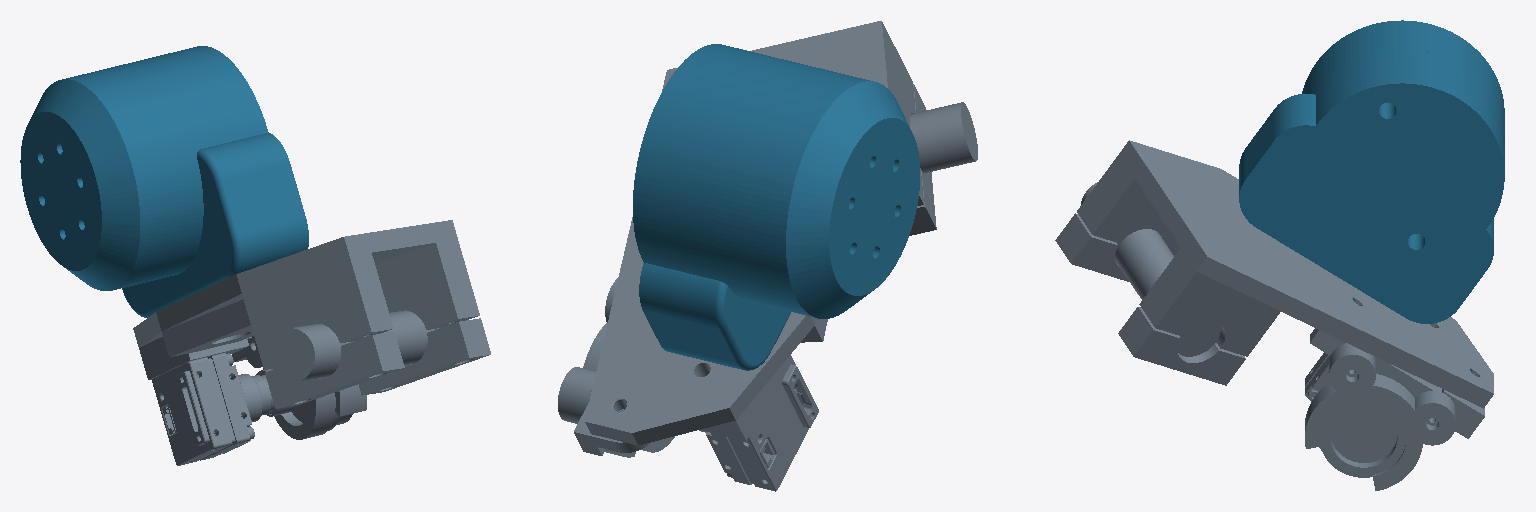
URDF robot description (yam):
<?xml version='1.0' encoding='utf-8'?>
<robot name="yam">
  <link name="base">
    <inertial>
      <mass value="0.873654" />
      <origin xyz="-3.83908653914762e-05 2.40068589826393e-05 0.0247677998591499" rpy="0 1.5708 3.1415963267949" />
      <inertia ixx="0.00157059" ixy="-9.4753e-07" ixz="2.04071e-07" iyy="0.000678307" iyz="2.44292e-07" izz="0.00169404" />
    </inertial>
    <visual>
      <origin xyz="0.0374957408313106 0.0464006377298596 0.187501137731438" rpy="0 1.5708 3.1415963267949" />
      <geometry>
        <mesh filename="../../vendor/i2rt/i2rt/robot_models/arm/yam/v1/assets/base.stl" scale="1 1 1" />
      </geometry>
      <material name="0.317647_0.121569_0.498039_0.000000_0.000000">
        <color rgba="0.317647 0.121569 0.498039 1" />
      </material>
    </visual>
  </link>
  <link name="gripper">
    </link>
  <link name="link1">
    <inertial>
      <mass value="0.101218" />
      <origin xyz="-0.0233636 -0.00172503 -0.00727828" rpy="0 -0 0" />
      <inertia ixx="0.000114689" ixy="-4.62759e-06" ixz="-1.3427e-05" iyy="4.76603e-05" iyz="-2.58724e-06" izz="0.000125996" />
    </inertial>
    <visual>
      <origin xyz="-0.119501 -0.0464 -0.0374968" rpy="0 -0 0" />
      <geometry>
        <mesh filename="../../vendor/i2rt/i2rt/robot_models/arm/yam/v1/assets/link1.stl" scale="1 1 1" />
      </geometry>
      <material name="0.725490_0.450980_0.317647_0.000000_0.000000">
        <color rgba="0.72549 0.45098 0.317647 1" />
      </material>
    </visual>
  </link>
  <link name="link2">
    <inertial>
      <mass value="1.46908" />
      <origin xyz="0.000134495 -0.0331253 0.129165" rpy="0 -0 0" />
      <inertia ixx="0.0146686" ixy="-1.1067e-08" ixz="-4.33007e-07" iyy="0.014599" iyz="3.12564e-06" izz="0.000800089" />
    </inertial>
    <visual>
      <origin xyz="-0.0740001 -0.08025 -0.0174977" rpy="0 -0 0" />
      <geometry>
        <mesh filename="../../vendor/i2rt/i2rt/robot_models/arm/yam/v1/assets/link2.stl" scale="1 1 1" />
      </geometry>
      <material name="0.000000_0.400000_0.600000_0.000000_0.000000">
        <color rgba="0 0.4 0.6 1" />
      </material>
    </visual>
  </link>
  <link name="link3">
    <inertial>
      <mass value="0.982553" />
      <origin xyz="-0.0556042 -0.0340514 -0.135083" rpy="0 -0 0" />
      <inertia ixx="0.00758945" ixy="4.36076e-06" ixz="-0.00064069" iyy="0.00763097" iyz="-1.09984e-05" izz="0.000937606" />
    </inertial>
    <visual>
      <origin xyz="-0.0740003 -0.0813 -0.281499" rpy="0 -0 0" />
      <geometry>
        <mesh filename="../../vendor/i2rt/i2rt/robot_models/arm/yam/v1/assets/link3.stl" scale="1 1 1" />
      </geometry>
      <material name="0.552941_0.580392_0.203922_0.000000_0.000000">
        <color rgba="0.552941 0.580392 0.203922 1" />
      </material>
    </visual>
  </link>
  <link name="link4">
    <inertial>
      <mass value="0.462165" />
      <origin xyz="-0.0550959 0.032726 -0.0575534" rpy="0 -0 0" />
      <inertia ixx="0.000473594" ixy="3.00819e-05" ixz="-0.000238801" iyy="0.000764022" iyz="2.9261e-05" izz="0.000604492" />
    </inertial>
    <visual>
      <origin xyz="-0.0140003 -0.0125 -0.0364989" rpy="0 -0 0" />
      <geometry>
        <mesh filename="../../vendor/i2rt/i2rt/robot_models/arm/yam/v1/assets/link4.stl" scale="1 1 1" />
      </geometry>
      <material name="0.545098_0.525490_0.419608_0.000000_0.000000">
        <color rgba="0.545098 0.52549 0.419608 1" />
      </material>
    </visual>
  </link>
  <link name="link5">
    <inertial>
      <mass value="0.403307" />
      <origin xyz="0.0375847 -3.55003e-05 -0.000825911" rpy="0 -0 0" />
      <inertia ixx="0.000184284" ixy="2.10549e-07" ixz="1.29173e-05" iyy="0.000219791" iyz="-3.49657e-07" izz="0.000181053" />
    </inertial>
    <visual>
      <origin xyz="0.0265 -0.0463995 0.0375" rpy="0 -0 0" />
      <geometry>
        <mesh filename="../../vendor/i2rt/i2rt/robot_models/arm/yam/v1/assets/link5.stl" scale="1 1 1" />
      </geometry>
      <material name="0.827451_0.623529_0.784314_0.000000_0.000000">
        <color rgba="0.827451 0.623529 0.784314 1" />
      </material>
    </visual>
  </link>
  <joint name="joint1" type="revolute">
    <origin xyz="-2.49777947129965e-07 -9.17402363407408e-13 0.0679999999995413" rpy="0 1.5708 3.1415963267949" />
    <axis xyz="-1 0 0" />
    <parent link="base" />
    <child link="link1" />
    <limit effort="1" velocity="1" lower="-2.61799" upper="3.14159" />
  </joint>
  <joint name="joint2" type="revolute">
    <origin xyz="-0.0455 -0.0339 -0.02" rpy="-1.7953e-16 5.55112e-17 -3.14159" />
    <axis xyz="3.58252e-15 1 -3.2007e-16" />
    <parent link="link1" />
    <child link="link2" />
    <limit effort="1" velocity="1" lower="-8.88178e-16" upper="3.66519" />
  </joint>
  <joint name="joint3" type="revolute">
    <origin xyz="4.08431e-07 -0.0688 0.264" rpy="-2.99502e-14 -1.6015e-14 -3.14159" />
    <axis xyz="4.54273e-15 1 1.04275e-14" />
    <parent link="link2" />
    <child link="link3" />
    <limit effort="1" velocity="1" lower="0" upper="3.14159" />
  </joint>
  <joint name="joint4" type="revolute">
    <origin xyz="-0.0600003 -0.0688 -0.244999" rpy="2.95536e-14 8.52374e-14 -2.10585e-14" />
    <axis xyz="0 1 0" />
    <parent link="link3" />
    <child link="link4" />
    <limit effort="1" velocity="1" lower="-1.69297" upper="1.5708" />
  </joint>
  <joint name="joint5" type="revolute">
    <origin xyz="-0.0405003 0.0338995 -0.0739989" rpy="2.73264e-14 -4.32956e-16 -8.32667e-17" />
    <axis xyz="1 0 0" />
    <parent link="link4" />
    <child link="link5" />
    <limit effort="1" velocity="1" lower="-1.5708" upper="1.5708" />
  </joint>
  <joint name="joint6" type="revolute">
    <origin xyz="0.0404996 2.39858e-07 -0.0356" rpy="8.83309e-16 -5.88588e-16 7.69861e-14" />
    <axis xyz="1.46014e-15 2.40808e-14 -1" />
    <parent link="link5" />
    <child link="gripper" />
    <limit effort="1" velocity="1" lower="-5.3726054547144" upper="-2.0871488750331" />
  </joint>
  <link name="mount_0">
    <visual>
      <geometry>
        <mesh filename="meshes/00_receiver_receiver_body.stl" scale="0.001 0.001 0.001" />
      </geometry>
      <material name="mount_material">
        <color rgba="0.21 0.49 0.62 1" />
      </material>
    </visual>
  </link>
  <joint name="mount_0_fixed" type="fixed">
    <parent link="gripper" />
    <child link="mount_0" />
    <origin xyz="0.0 0.0 0.0" rpy="0.0 0.0 1.5707963267948966" />
  </joint>
  <link name="mount_1">
    <visual>
      <geometry>
        <mesh filename="meshes/01_camera_carrier_parked_camera_carrier_body.stl" scale="0.001 0.001 0.001" />
      </geometry>
      <material name="mount_material">
        <color rgba="0.21 0.49 0.62 1" />
      </material>
    </visual>
  </link>
  <joint name="mount_1_fixed" type="fixed">
    <parent link="gripper" />
    <child link="mount_1" />
    <origin xyz="0.0 0.0 0.0" rpy="0.0 0.0 1.5707963267948966" />
  </joint>
  <link name="mount_2">
    <visual>
      <geometry>
        <mesh filename="meshes/02_camera_reference_parked_optical_head_1.stl" scale="0.001 0.001 0.001" />
      </geometry>
      <material name="mount_material">
        <color rgba="0.5 0.55 0.6 1" />
      </material>
    </visual>
  </link>
  <joint name="mount_2_fixed" type="fixed">
    <parent link="gripper" />
    <child link="mount_2" />
    <origin xyz="0.0 0.0 0.0" rpy="0.0 0.0 1.5707963267948966" />
  </joint>
  <link name="mount_3">
    <visual>
      <geometry>
        <mesh filename="meshes/03_camera_reference_parked_optical_head_2.stl" scale="0.001 0.001 0.001" />
      </geometry>
      <material name="mount_material">
        <color rgba="0.5 0.55 0.6 1" />
      </material>
    </visual>
  </link>
  <joint name="mount_3_fixed" type="fixed">
    <parent link="gripper" />
    <child link="mount_3" />
    <origin xyz="0.0 0.0 0.0" rpy="0.0 0.0 1.5707963267948966" />
  </joint>
  <link name="mount_4">
    <visual>
      <geometry>
        <mesh filename="meshes/04_camera_reference_parked_optical_head_3.stl" scale="0.001 0.001 0.001" />
      </geometry>
      <material name="mount_material">
        <color rgba="0.5 0.55 0.6 1" />
      </material>
    </visual>
  </link>
  <joint name="mount_4_fixed" type="fixed">
    <parent link="gripper" />
    <child link="mount_4" />
    <origin xyz="0.0 0.0 0.0" rpy="0.0 0.0 1.5707963267948966" />
  </joint>
  <link name="mount_5">
    <visual>
      <geometry>
        <mesh filename="meshes/05_camera_reference_parked_optical_head_4.stl" scale="0.001 0.001 0.001" />
      </geometry>
      <material name="mount_material">
        <color rgba="0.5 0.55 0.6 1" />
      </material>
    </visual>
  </link>
  <joint name="mount_5_fixed" type="fixed">
    <parent link="gripper" />
    <child link="mount_5" />
    <origin xyz="0.0 0.0 0.0" rpy="0.0 0.0 1.5707963267948966" />
  </joint>
  <link name="mount_6">
    <visual>
      <geometry>
        <mesh filename="meshes/06_camera_reference_parked_optical_head_5.stl" scale="0.001 0.001 0.001" />
      </geometry>
      <material name="mount_material">
        <color rgba="0.5 0.55 0.6 1" />
      </material>
    </visual>
  </link>
  <joint name="mount_6_fixed" type="fixed">
    <parent link="gripper" />
    <child link="mount_6" />
    <origin xyz="0.0 0.0 0.0" rpy="0.0 0.0 1.5707963267948966" />
  </joint>
  <link name="mount_7">
    <visual>
      <geometry>
        <mesh filename="meshes/07_camera_reference_parked_optical_head_6.stl" scale="0.001 0.001 0.001" />
      </geometry>
      <material name="mount_material">
        <color rgba="0.5 0.55 0.6 1" />
      </material>
    </visual>
  </link>
  <joint name="mount_7_fixed" type="fixed">
    <parent link="gripper" />
    <child link="mount_7" />
    <origin xyz="0.0 0.0 0.0" rpy="0.0 0.0 1.5707963267948966" />
  </joint>
  <link name="mount_8">
    <visual>
      <geometry>
        <mesh filename="meshes/08_camera_reference_parked_optical_head_7.stl" scale="0.001 0.001 0.001" />
      </geometry>
      <material name="mount_material">
        <color rgba="0.5 0.55 0.6 1" />
      </material>
    </visual>
  </link>
  <joint name="mount_8_fixed" type="fixed">
    <parent link="gripper" />
    <child link="mount_8" />
    <origin xyz="0.0 0.0 0.0" rpy="0.0 0.0 1.5707963267948966" />
  </joint>
  <link name="mount_9">
    <visual>
      <geometry>
        <mesh filename="meshes/09_camera_reference_parked_optical_head_8.stl" scale="0.001 0.001 0.001" />
      </geometry>
      <material name="mount_material">
        <color rgba="0.5 0.55 0.6 1" />
      </material>
    </visual>
  </link>
  <joint name="mount_9_fixed" type="fixed">
    <parent link="gripper" />
    <child link="mount_9" />
    <origin xyz="0.0 0.0 0.0" rpy="0.0 0.0 1.5707963267948966" />
  </joint>
  <link name="mount_10">
    <visual>
      <geometry>
        <mesh filename="meshes/10_camera_reference_parked_optical_head_9.stl" scale="0.001 0.001 0.001" />
      </geometry>
      <material name="mount_material">
        <color rgba="0.5 0.55 0.6 1" />
      </material>
    </visual>
  </link>
  <joint name="mount_10_fixed" type="fixed">
    <parent link="gripper" />
    <child link="mount_10" />
    <origin xyz="0.0 0.0 0.0" rpy="0.0 0.0 1.5707963267948966" />
  </joint>
  <link name="mount_11">
    <visual>
      <geometry>
        <mesh filename="meshes/11_camera_reference_parked_optical_head_10.stl" scale="0.001 0.001 0.001" />
      </geometry>
      <material name="mount_material">
        <color rgba="0.5 0.55 0.6 1" />
      </material>
    </visual>
  </link>
  <joint name="mount_11_fixed" type="fixed">
    <parent link="gripper" />
    <child link="mount_11" />
    <origin xyz="0.0 0.0 0.0" rpy="0.0 0.0 1.5707963267948966" />
  </joint>
  <link name="mount_12">
    <visual>
      <geometry>
        <mesh filename="meshes/12_camera_reference_parked_optical_head_11.stl" scale="0.001 0.001 0.001" />
      </geometry>
      <material name="mount_material">
        <color rgba="0.5 0.55 0.6 1" />
      </material>
    </visual>
  </link>
  <joint name="mount_12_fixed" type="fixed">
    <parent link="gripper" />
    <child link="mount_12" />
    <origin xyz="0.0 0.0 0.0" rpy="0.0 0.0 1.5707963267948966" />
  </joint>
  <link name="mount_13">
    <visual>
      <geometry>
        <mesh filename="meshes/13_camera_reference_parked_optical_head_12.stl" scale="0.001 0.001 0.001" />
      </geometry>
      <material name="mount_material">
        <color rgba="0.5 0.55 0.6 1" />
      </material>
    </visual>
  </link>
  <joint name="mount_13_fixed" type="fixed">
    <parent link="gripper" />
    <child link="mount_13" />
    <origin xyz="0.0 0.0 0.0" rpy="0.0 0.0 1.5707963267948966" />
  </joint>
  <link name="mount_14">
    <visual>
      <geometry>
        <mesh filename="meshes/14_camera_reference_parked_optical_head_13.stl" scale="0.001 0.001 0.001" />
      </geometry>
      <material name="mount_material">
        <color rgba="0.5 0.55 0.6 1" />
      </material>
    </visual>
  </link>
  <joint name="mount_14_fixed" type="fixed">
    <parent link="gripper" />
    <child link="mount_14" />
    <origin xyz="0.0 0.0 0.0" rpy="0.0 0.0 1.5707963267948966" />
  </joint>
  <link name="mount_15">
    <visual>
      <geometry>
        <mesh filename="meshes/15_camera_reference_parked_optical_head_14.stl" scale="0.001 0.001 0.001" />
      </geometry>
      <material name="mount_material">
        <color rgba="0.5 0.55 0.6 1" />
      </material>
    </visual>
  </link>
  <joint name="mount_15_fixed" type="fixed">
    <parent link="gripper" />
    <child link="mount_15" />
    <origin xyz="0.0 0.0 0.0" rpy="0.0 0.0 1.5707963267948966" />
  </joint>
  <link name="mount_16">
    <visual>
      <geometry>
        <mesh filename="meshes/16_camera_reference_parked_optical_head_15.stl" scale="0.001 0.001 0.001" />
      </geometry>
      <material name="mount_material">
        <color rgba="0.5 0.55 0.6 1" />
      </material>
    </visual>
  </link>
  <joint name="mount_16_fixed" type="fixed">
    <parent link="gripper" />
    <child link="mount_16" />
    <origin xyz="0.0 0.0 0.0" rpy="0.0 0.0 1.5707963267948966" />
  </joint>
  <link name="mount_17">
    <visual>
      <geometry>
        <mesh filename="meshes/17_camera_reference_parked_optical_head_16.stl" scale="0.001 0.001 0.001" />
      </geometry>
      <material name="mount_material">
        <color rgba="0.5 0.55 0.6 1" />
      </material>
    </visual>
  </link>
  <joint name="mount_17_fixed" type="fixed">
    <parent link="gripper" />
    <child link="mount_17" />
    <origin xyz="0.0 0.0 0.0" rpy="0.0 0.0 1.5707963267948966" />
  </joint>
  <link name="mount_18">
    <visual>
      <geometry>
        <mesh filename="meshes/18_camera_reference_parked_optical_head_17.stl" scale="0.001 0.001 0.001" />
      </geometry>
      <material name="mount_material">
        <color rgba="0.5 0.55 0.6 1" />
      </material>
    </visual>
  </link>
  <joint name="mount_18_fixed" type="fixed">
    <parent link="gripper" />
    <child link="mount_18" />
    <origin xyz="0.0 0.0 0.0" rpy="0.0 0.0 1.5707963267948966" />
  </joint>
  <link name="mount_19">
    <visual>
      <geometry>
        <mesh filename="meshes/19_camera_reference_parked_optical_head_18.stl" scale="0.001 0.001 0.001" />
      </geometry>
      <material name="mount_material">
        <color rgba="0.5 0.55 0.6 1" />
      </material>
    </visual>
  </link>
  <joint name="mount_19_fixed" type="fixed">
    <parent link="gripper" />
    <child link="mount_19" />
    <origin xyz="0.0 0.0 0.0" rpy="0.0 0.0 1.5707963267948966" />
  </joint>
  <link name="mount_20">
    <visual>
      <geometry>
        <mesh filename="meshes/20_camera_reference_parked_optical_head_19.stl" scale="0.001 0.001 0.001" />
      </geometry>
      <material name="mount_material">
        <color rgba="0.5 0.55 0.6 1" />
      </material>
    </visual>
  </link>
  <joint name="mount_20_fixed" type="fixed">
    <parent link="gripper" />
    <child link="mount_20" />
    <origin xyz="0.0 0.0 0.0" rpy="0.0 0.0 1.5707963267948966" />
  </joint>
  <link name="mount_21">
    <visual>
      <geometry>
        <mesh filename="meshes/21_camera_reference_parked_optical_head_20.stl" scale="0.001 0.001 0.001" />
      </geometry>
      <material name="mount_material">
        <color rgba="0.5 0.55 0.6 1" />
      </material>
    </visual>
  </link>
  <joint name="mount_21_fixed" type="fixed">
    <parent link="gripper" />
    <child link="mount_21" />
    <origin xyz="0.0 0.0 0.0" rpy="0.0 0.0 1.5707963267948966" />
  </joint>
  <link name="mount_22">
    <visual>
      <geometry>
        <mesh filename="meshes/22_camera_reference_parked_optical_head_21.stl" scale="0.001 0.001 0.001" />
      </geometry>
      <material name="mount_material">
        <color rgba="0.5 0.55 0.6 1" />
      </material>
    </visual>
  </link>
  <joint name="mount_22_fixed" type="fixed">
    <parent link="gripper" />
    <child link="mount_22" />
    <origin xyz="0.0 0.0 0.0" rpy="0.0 0.0 1.5707963267948966" />
  </joint>
  <link name="mount_23">
    <visual>
      <geometry>
        <mesh filename="meshes/23_camera_reference_parked_optical_head_22.stl" scale="0.001 0.001 0.001" />
      </geometry>
      <material name="mount_material">
        <color rgba="0.5 0.55 0.6 1" />
      </material>
    </visual>
  </link>
  <joint name="mount_23_fixed" type="fixed">
    <parent link="gripper" />
    <child link="mount_23" />
    <origin xyz="0.0 0.0 0.0" rpy="0.0 0.0 1.5707963267948966" />
  </joint>
  <link name="mount_24">
    <visual>
      <geometry>
        <mesh filename="meshes/24_camera_reference_parked_optical_head_23.stl" scale="0.001 0.001 0.001" />
      </geometry>
      <material name="mount_material">
        <color rgba="0.5 0.55 0.6 1" />
      </material>
    </visual>
  </link>
  <joint name="mount_24_fixed" type="fixed">
    <parent link="gripper" />
    <child link="mount_24" />
    <origin xyz="0.0 0.0 0.0" rpy="0.0 0.0 1.5707963267948966" />
  </joint>
  <link name="mount_25">
    <visual>
      <geometry>
        <mesh filename="meshes/25_camera_reference_parked_optical_head_24.stl" scale="0.001 0.001 0.001" />
      </geometry>
      <material name="mount_material">
        <color rgba="0.5 0.55 0.6 1" />
      </material>
    </visual>
  </link>
  <joint name="mount_25_fixed" type="fixed">
    <parent link="gripper" />
    <child link="mount_25" />
    <origin xyz="0.0 0.0 0.0" rpy="0.0 0.0 1.5707963267948966" />
  </joint>
  <link name="mount_26">
    <visual>
      <geometry>
        <mesh filename="meshes/26_camera_reference_parked_optical_head_25.stl" scale="0.001 0.001 0.001" />
      </geometry>
      <material name="mount_material">
        <color rgba="0.5 0.55 0.6 1" />
      </material>
    </visual>
  </link>
  <joint name="mount_26_fixed" type="fixed">
    <parent link="gripper" />
    <child link="mount_26" />
    <origin xyz="0.0 0.0 0.0" rpy="0.0 0.0 1.5707963267948966" />
  </joint>
  <link name="mount_27">
    <visual>
      <geometry>
        <mesh filename="meshes/27_camera_reference_parked_optical_head_26.stl" scale="0.001 0.001 0.001" />
      </geometry>
      <material name="mount_material">
        <color rgba="0.5 0.55 0.6 1" />
      </material>
    </visual>
  </link>
  <joint name="mount_27_fixed" type="fixed">
    <parent link="gripper" />
    <child link="mount_27" />
    <origin xyz="0.0 0.0 0.0" rpy="0.0 0.0 1.5707963267948966" />
  </joint>
  <link name="mount_28">
    <visual>
      <geometry>
        <mesh filename="meshes/28_camera_reference_parked_optical_head_27.stl" scale="0.001 0.001 0.001" />
      </geometry>
      <material name="mount_material">
        <color rgba="0.5 0.55 0.6 1" />
      </material>
    </visual>
  </link>
  <joint name="mount_28_fixed" type="fixed">
    <parent link="gripper" />
    <child link="mount_28" />
    <origin xyz="0.0 0.0 0.0" rpy="0.0 0.0 1.5707963267948966" />
  </joint>
  <link name="mount_29">
    <visual>
      <geometry>
        <mesh filename="meshes/29_camera_reference_parked_optical_head_28.stl" scale="0.001 0.001 0.001" />
      </geometry>
      <material name="mount_material">
        <color rgba="0.5 0.55 0.6 1" />
      </material>
    </visual>
  </link>
  <joint name="mount_29_fixed" type="fixed">
    <parent link="gripper" />
    <child link="mount_29" />
    <origin xyz="0.0 0.0 0.0" rpy="0.0 0.0 1.5707963267948966" />
  </joint>
  <link name="mount_30">
    <visual>
      <geometry>
        <mesh filename="meshes/30_camera_reference_parked_optical_head_29.stl" scale="0.001 0.001 0.001" />
      </geometry>
      <material name="mount_material">
        <color rgba="0.5 0.55 0.6 1" />
      </material>
    </visual>
  </link>
  <joint name="mount_30_fixed" type="fixed">
    <parent link="gripper" />
    <child link="mount_30" />
    <origin xyz="0.0 0.0 0.0" rpy="0.0 0.0 1.5707963267948966" />
  </joint>
  <link name="mount_31">
    <visual>
      <geometry>
        <mesh filename="meshes/31_camera_reference_parked_optical_head_30.stl" scale="0.001 0.001 0.001" />
      </geometry>
      <material name="mount_material">
        <color rgba="0.5 0.55 0.6 1" />
      </material>
    </visual>
  </link>
  <joint name="mount_31_fixed" type="fixed">
    <parent link="gripper" />
    <child link="mount_31" />
    <origin xyz="0.0 0.0 0.0" rpy="0.0 0.0 1.5707963267948966" />
  </joint>
  <link name="camera_optical" />
  <joint name="camera_optical_fixed" type="fixed">
    <parent link="gripper" />
    <child link="camera_optical" />
    <origin xyz="-0.0695 0.03209562859406243 -0.068782516614" rpy="3.141592653589793 0.0 1.5707963267948966" />
  </joint>
</robot>

--- Render facts (derived) ---
The picture shows the robot from 3 angles, left to right: view 1: azimuth 30°, elevation 25°; view 2: azimuth 150°, elevation 25°; view 3: azimuth 270°, elevation 25°; orthographic projection.
Robot: yam — 40 links, 39 joints (6 revolute, 33 fixed); root link base; default pose: joints at zero except 1 at the middle of their limits (joint6 = -3.73).
Visible links, largest first — view 1: mount_0, mount_31, mount_1, mount_10, mount_22, mount_28, mount_29, mount_2, mount_30, mount_26, mount_21; view 2: mount_0, mount_1, mount_31, mount_10, mount_22, mount_26, mount_30, mount_28, mount_2; view 3: mount_1, mount_31, mount_26, mount_0, mount_29, mount_22, mount_25, mount_28, mount_24, mount_30, mount_27.
Link boxes in pixels (x1=…): mount_0: x1=20, y1=64, x2=203, y2=290; mount_31: x1=133, y1=220, x2=479, y2=379; mount_1: x1=122, y1=46, x2=308, y2=317; mount_10: x1=152, y1=357, x2=231, y2=465; mount_22: x1=269, y1=310, x2=438, y2=381; mount_28: x1=265, y1=332, x2=404, y2=408; mount_29: x1=359, y1=318, x2=490, y2=395; mount_2: x1=200, y1=353, x2=261, y2=460; mount_30: x1=232, y1=336, x2=332, y2=439; mount_26: x1=335, y1=384, x2=366, y2=416; mount_21: x1=251, y1=369, x2=293, y2=416; mount_0: x1=715, y1=64, x2=919, y2=318; mount_1: x1=633, y1=44, x2=799, y2=370; mount_31: x1=585, y1=21, x2=923, y2=445; mount_10: x1=731, y1=356, x2=818, y2=491; mount_22: x1=910, y1=102, x2=977, y2=172; mount_26: x1=558, y1=278, x2=635, y2=457; mount_30: x1=574, y1=403, x2=674, y2=455; mount_28: x1=909, y1=84, x2=936, y2=235; mount_2: x1=699, y1=430, x2=752, y2=484; mount_1: x1=1239, y1=50, x2=1504, y2=323; mount_31: x1=1077, y1=140, x2=1493, y2=408; mount_26: x1=1305, y1=343, x2=1455, y2=490; mount_0: x1=1302, y1=20, x2=1504, y2=136; mount_29: x1=1118, y1=307, x2=1245, y2=385; mount_22: x1=1081, y1=182, x2=1220, y2=356; mount_25: x1=1331, y1=407, x2=1397, y2=462; mount_28: x1=1055, y1=213, x2=1128, y2=281; mount_24: x1=1321, y1=400, x2=1405, y2=477; mount_30: x1=1310, y1=328, x2=1484, y2=438; mount_27: x1=1319, y1=357, x2=1435, y2=450.
Size in the robot's own frame: 0.0981 by 0.1402 by 0.126 metres.
Meshes: 38 distinct files referenced, 31 mesh visuals loaded (31 binary STL); not drawn: 7 (reference not matched to a file when rendering).
